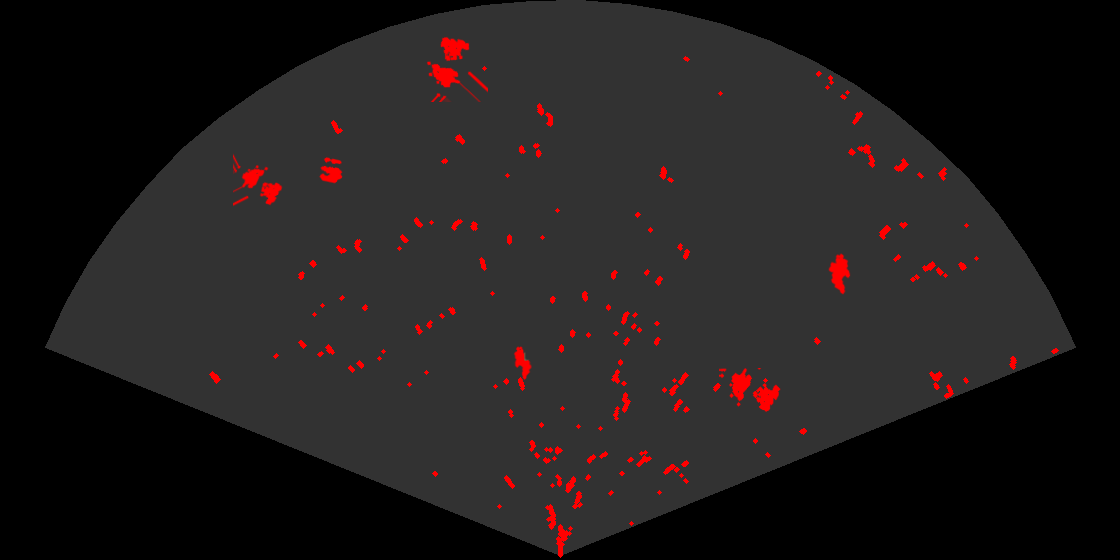AUV: (827, 252, 852, 296), (512, 345, 532, 382)
ball: (317, 156, 344, 185)
cage: (425, 35, 488, 102), (719, 368, 782, 414), (233, 152, 284, 208)
